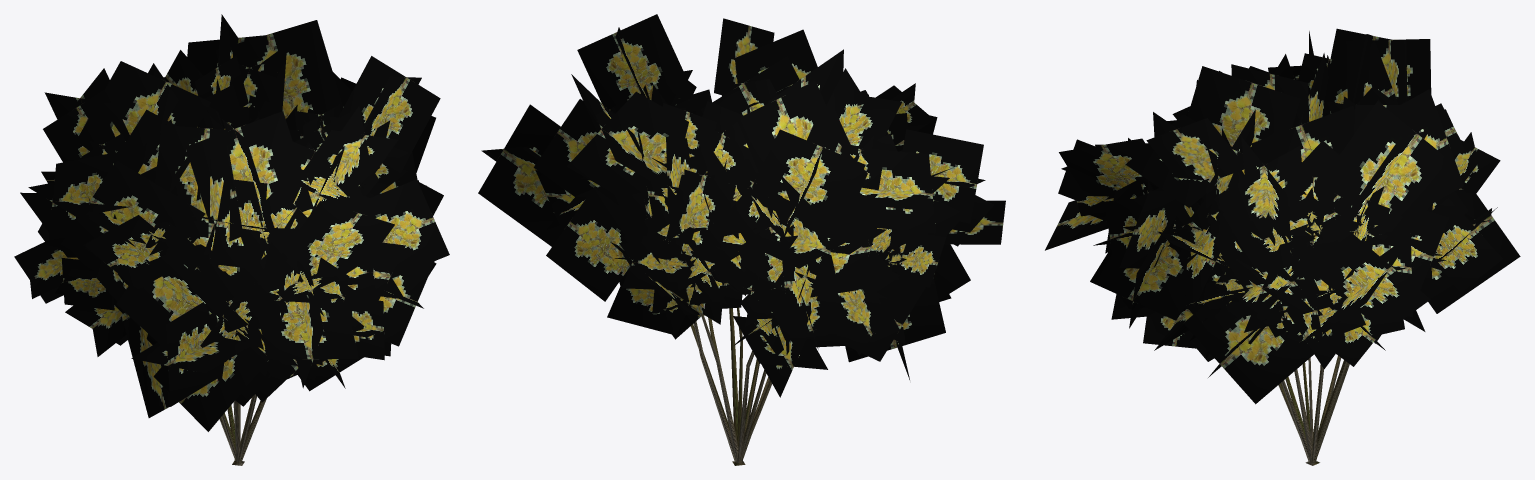
The model's file is bush.glb.
3 renders of one model, left to right at view 1: azimuth 30°, elevation 25°; view 2: azimuth 150°, elevation 25°; view 3: azimuth 270°, elevation 25°, orthographic. The views are drawn at different scales.
Visible parts, largest first — view 1: bush; view 2: bush; view 3: bush.
Boxes of the visible parts, <box> form: bush: <box>14,14,449,465</box>; bush: <box>478,14,1005,465</box>; bush: <box>1045,28,1520,465</box>.
Bounding box in the file's own units: 1.51 × 1.4 × 1.53.
2 materials, 2 textured.
